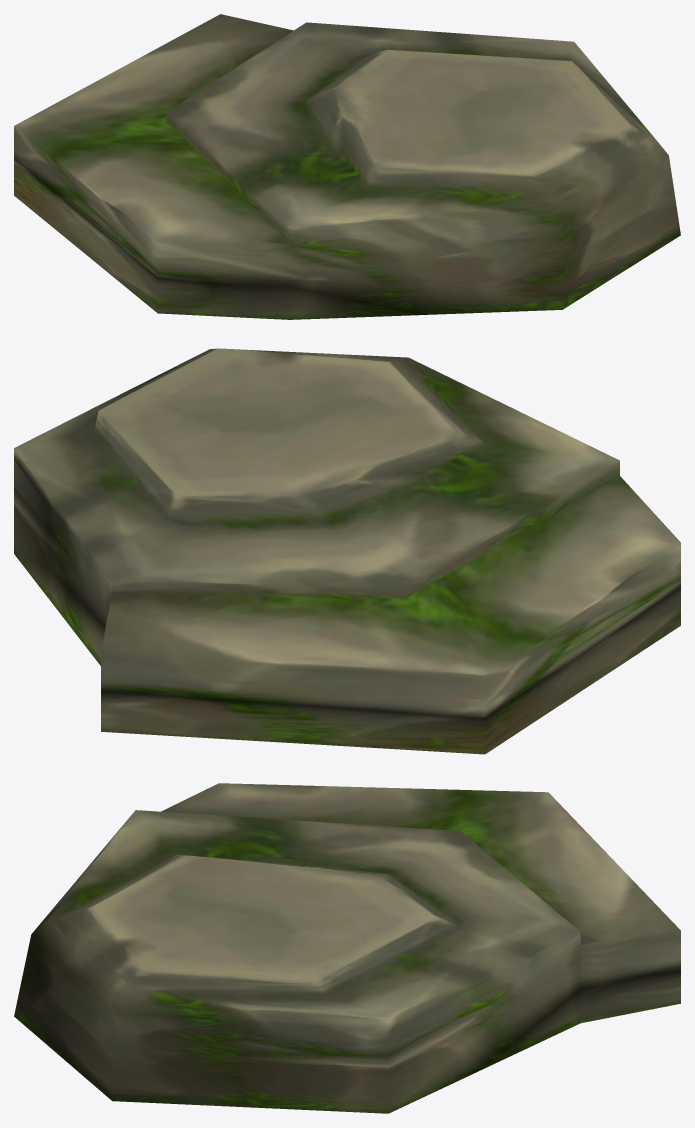
The model's file is RockFormation_4_5 (37).fbx.
The picture shows the model from 3 angles, top to bottom: view 1: azimuth 30°, elevation 25°; view 2: azimuth 150°, elevation 25°; view 3: azimuth 270°, elevation 25°; orthographic projection. The views are drawn at different scales.
Visible parts, largest first — view 1: RockFormation_4_5 (37); view 2: RockFormation_4_5 (37); view 3: RockFormation_4_5 (37).
Part boxes in pixels (x1,y1,x2,y2): RockFormation_4_5 (37): (14, 14, 680, 319); RockFormation_4_5 (37): (14, 348, 680, 754); RockFormation_4_5 (37): (14, 783, 680, 1113).
Size of the model in its own units: 90.97 by 18.74 by 101.
